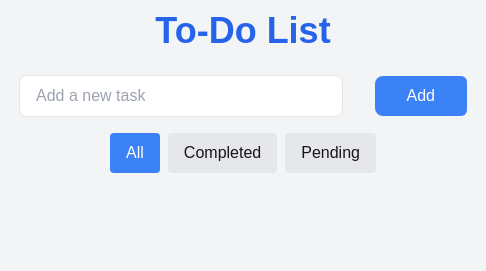
ToDoList Component › should add a new to-do
The image size is (486, 271).
Type "Learn TypeScript" into the field with placeholder "Add a new task".
click(181, 96); type("Learn TypeScript")  # box top-left (19, 75), bottom-right (342, 117)
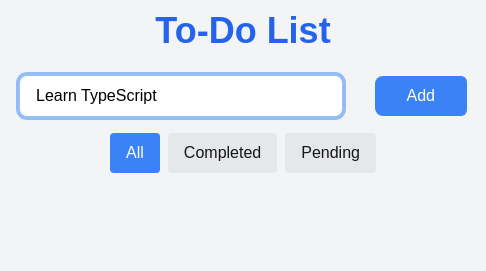
Click the button "Add".
click(421, 96)  # box top-left (374, 76), bottom-right (467, 116)
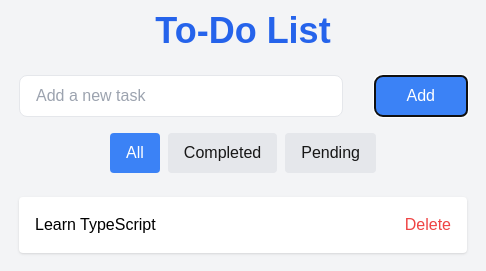
Expected: the text "Learn TypeScript" is shown, top-left (35, 216), bottom-right (156, 233)
